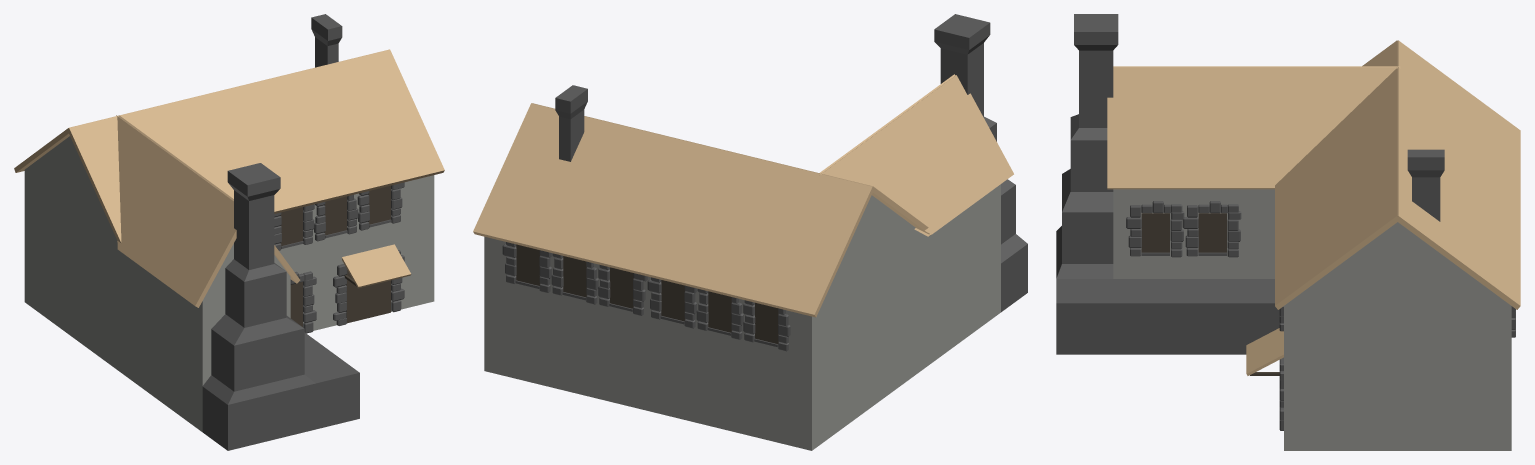
The model's file is TavernModel.glb.
The picture shows the model from 3 angles, left to right: view 1: azimuth 30°, elevation 25°; view 2: azimuth 150°, elevation 25°; view 3: azimuth 270°, elevation 25°; orthographic projection. The views are drawn at different scales.
Parts seen in each view (by area): view 1: Tavern; view 2: Tavern; view 3: Tavern.
Boxes of the visible parts, x1,y1,x2,y2 form: Tavern: (14, 14, 444, 450); Tavern: (473, 14, 1027, 450); Tavern: (1056, 14, 1520, 450).
Size of the model in its own units: 14.75 by 11 by 16.32.
